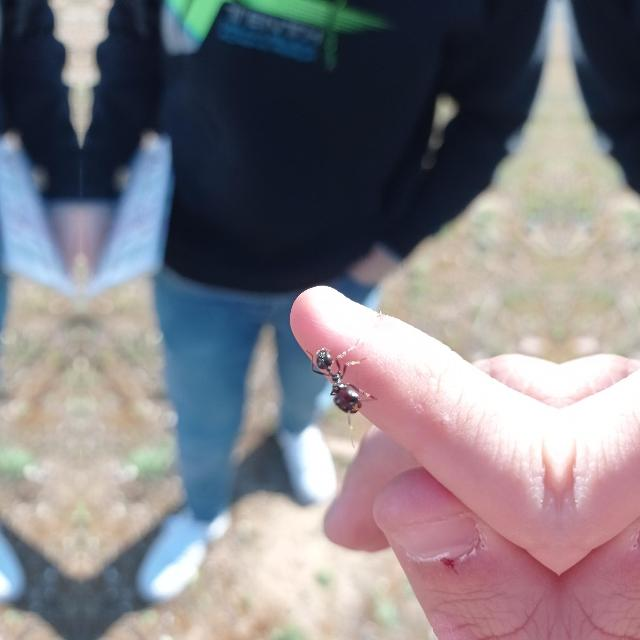Messor: (306, 342, 384, 428)
